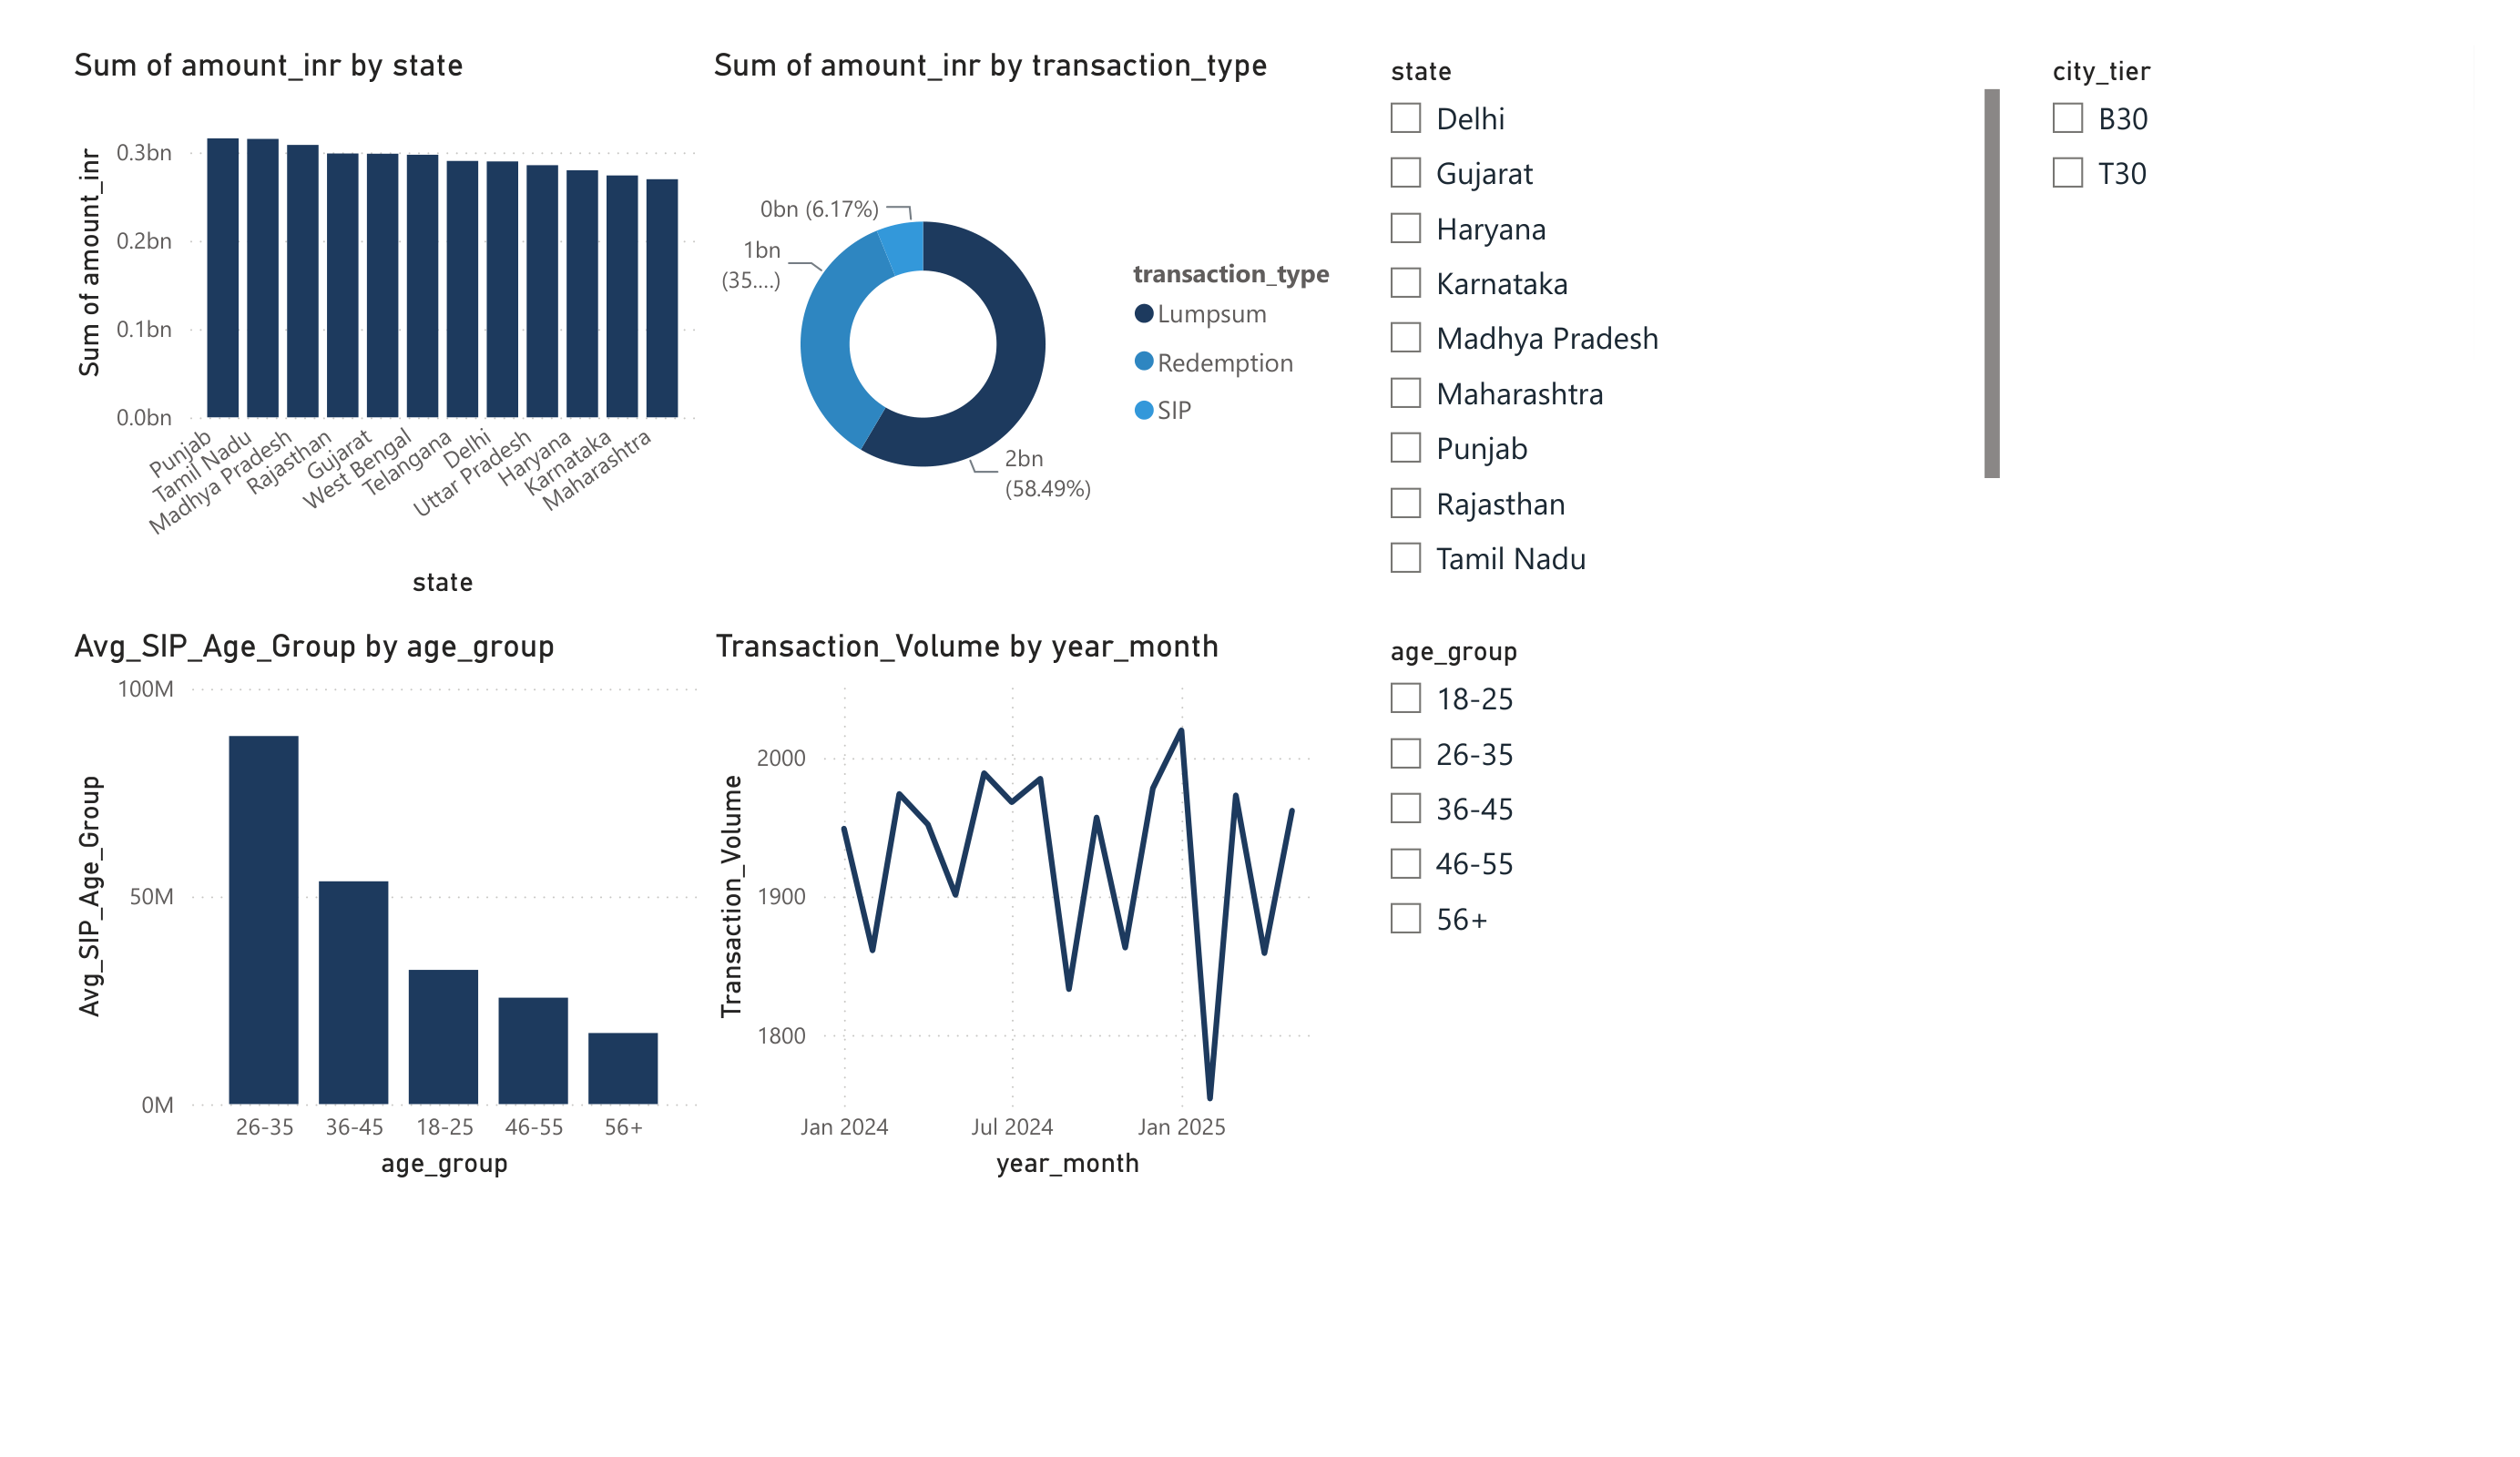

The page's visual inventory and layout, read from the dashboard file:
{"tool":"powerbi","page":{"name":"Investor Analytics","canvas":[1280,720],"ordinal":2},"visuals":[{"type":"clusteredColumnChart","fields":{"Category":["fact_transactions.state"],"Y":["Sum(fact_transactions.amount_inr)"]},"box":[9.6,0,337.6,296.4],"z":0},{"type":"donutChart","fields":{"Category":["fact_transactions.transaction_type"],"Y":["Sum(fact_transactions.amount_inr)"]},"box":[347.2,0,338.9,296.4],"z":1000},{"type":"clusteredColumnChart","fields":{"Category":["fact_transactions.age_group"],"Y":["fact_aum.Avg_SIP_Age_Group"]},"box":[10,306,338,296],"z":2000},{"type":"lineChart","fields":{"Y":["fact_aum.Transaction_Volume"],"Category":["dim_date.year_month"]},"box":[348,306,338,296],"z":3000},{"type":"slicer","fields":{"Values":["fact_transactions.state"]},"box":[696,0,339,296],"z":4000},{"type":"slicer","fields":{"Values":["fact_transactions.age_group"]},"box":[696,306,339,296],"z":5000},{"type":"slicer","fields":{"Values":["fact_transactions.city_tier"]},"box":[1045,0,235,296],"z":6000}]}

Visuals, with their boxes on the page's 1280x720 design canvas (x1, y1, x2, y2). These are canvas units, not pixel positions in the 2520x1457 screenshot, which may show the page scaled, cropped or inside an application window:
clusteredColumnChart - fact_transactions.state x Sum(fact_transactions.amount_inr): x1=10, y1=0, x2=347, y2=296
donutChart - fact_transactions.transaction_type x Sum(fact_transactions.amount_inr): x1=347, y1=0, x2=686, y2=296
clusteredColumnChart - fact_transactions.age_group x fact_aum.Avg_SIP_Age_Group: x1=10, y1=306, x2=348, y2=602
lineChart - fact_aum.Transaction_Volume x dim_date.year_month: x1=348, y1=306, x2=686, y2=602
slicer - fact_transactions.state: x1=696, y1=0, x2=1035, y2=296
slicer - fact_transactions.age_group: x1=696, y1=306, x2=1035, y2=602
slicer - fact_transactions.city_tier: x1=1045, y1=0, x2=1280, y2=296
